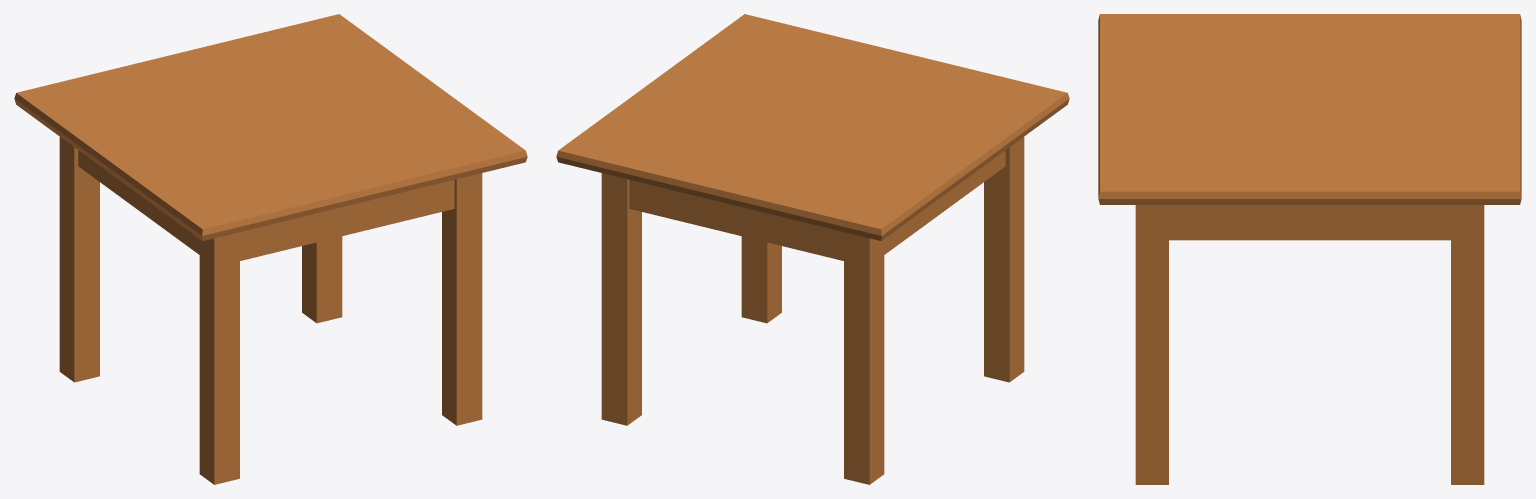
Rendered from mesa1.glb.
3 renders of one model, left to right at view 1: azimuth 30°, elevation 25°; view 2: azimuth 150°, elevation 25°; view 3: azimuth 270°, elevation 25°, orthographic. The views are drawn at different scales.
Visible parts, largest first — view 1: Cubo, Cube.003, Cube, Cube.002, Cubo.001, Cube.001, Cubo.004; view 2: Cubo, Cube.002, Cube.001, Cube.003, Cubo.002, Cube, Cubo.004; view 3: Cubo, Cubo.003, Cube, Cube.001.
Part boxes in pixels (box(x1,y1,x2,y2)): Cubo: box(14, 14, 527, 240); Cube.003: box(199, 232, 239, 484); Cube: box(442, 173, 482, 425); Cube.002: box(59, 137, 99, 382); Cubo.001: box(240, 180, 454, 260); Cube.001: box(302, 236, 342, 323); Cubo.004: box(78, 150, 199, 254); Cubo: box(556, 14, 1069, 240); Cube.002: box(844, 232, 884, 484); Cube.001: box(601, 173, 641, 425); Cube.003: box(984, 137, 1024, 382); Cubo.002: box(629, 180, 843, 260); Cube: box(741, 236, 781, 323); Cubo.004: box(884, 150, 1005, 254); Cubo: box(1098, 14, 1521, 204); Cubo.003: box(1169, 205, 1450, 240); Cube: box(1135, 205, 1168, 484); Cube.001: box(1451, 205, 1484, 484).
Size of the model in its own units: 8.06 by 6.48 by 8.06.
